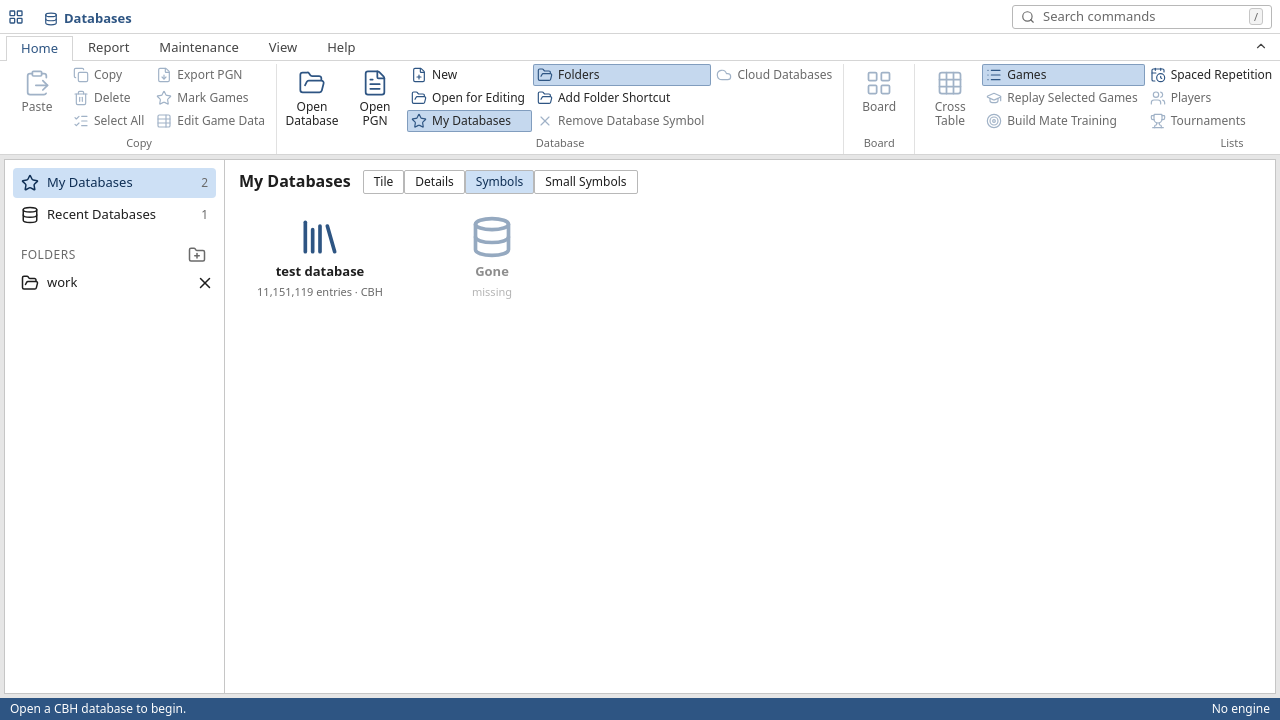
Test case: database start screen › edits local properties, keeps the dialog on failure and permits missing symbols
The width and height of the screenshot is (1280, 720).
Click the option "Gone missing" at coordinates (492, 257), box top-left (411, 202), bottom-right (573, 313)
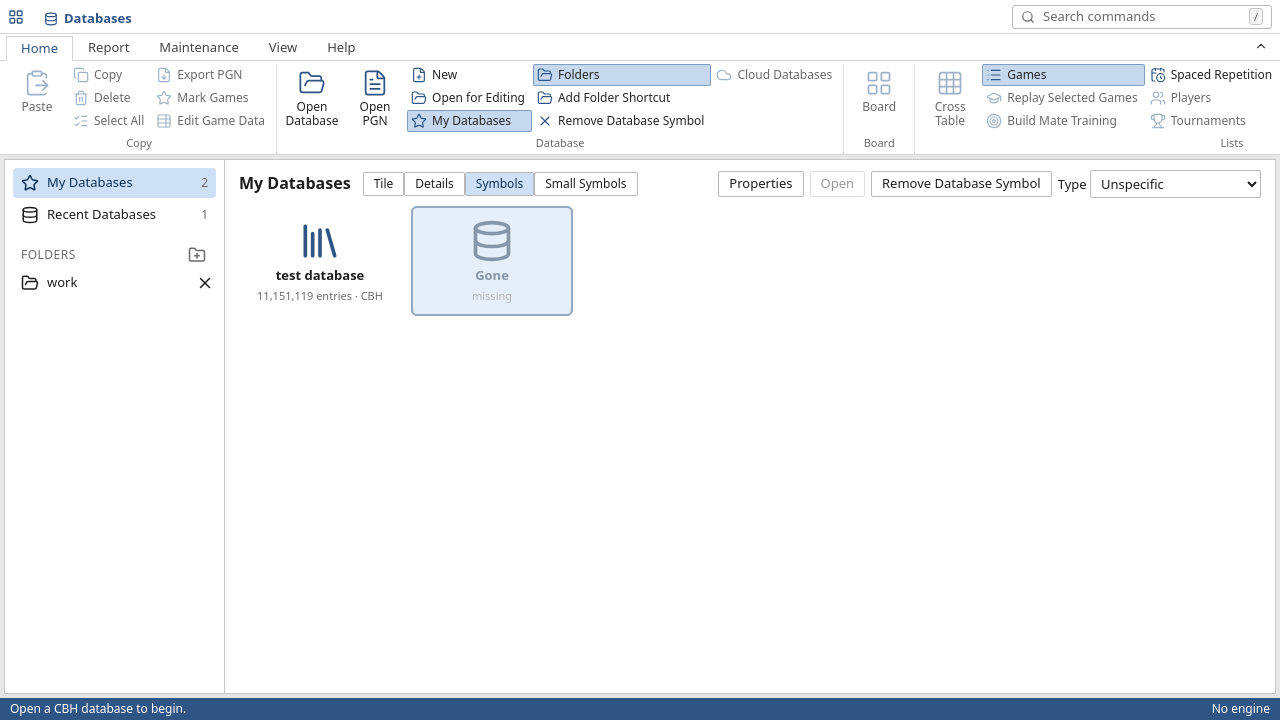
Click the button "Properties" at coordinates (761, 184), box top-left (718, 171), bottom-right (804, 197)
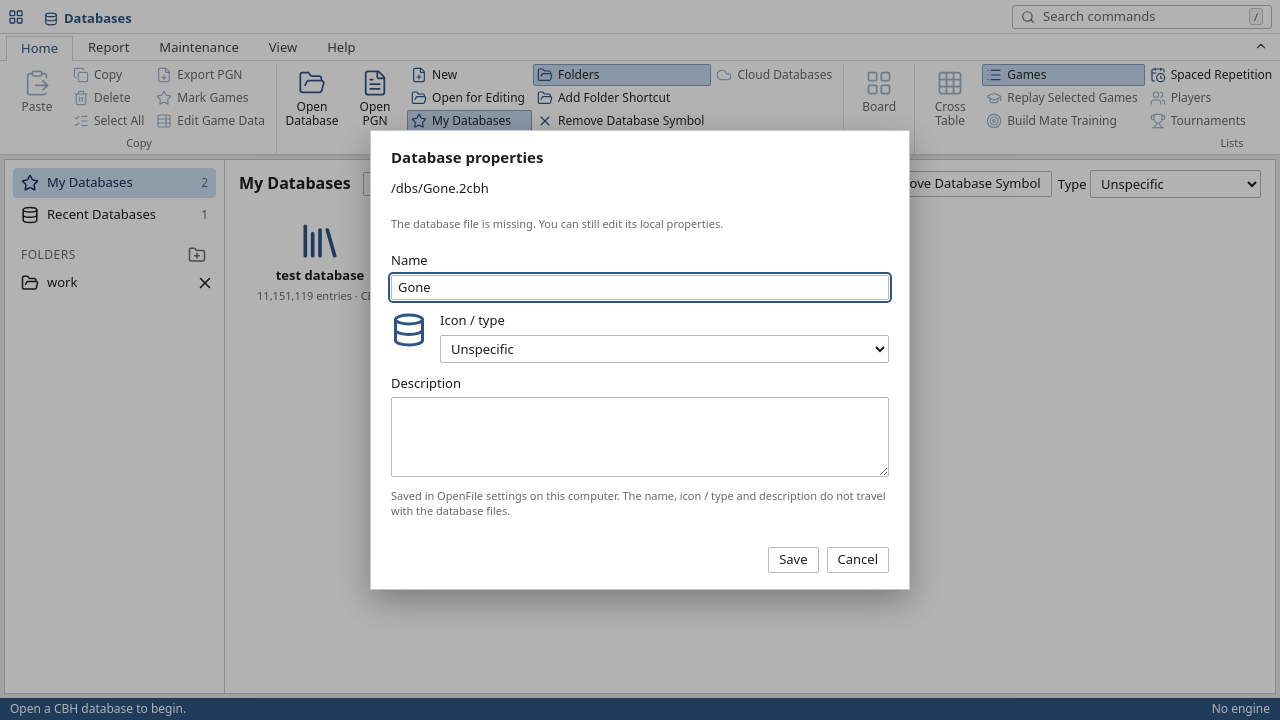
Check: the dialog "Database properties" shows "OpenFile settings", box top-left (391, 488), bottom-right (886, 518)
Replace the text in the field labelled "Name" with "Recovered collection" at coordinates (640, 287), box top-left (391, 275), bottom-right (889, 300)
Select "Work" in the dropdown labelled "Icon / type" at coordinates (664, 349), box top-left (440, 335), bottom-right (889, 363)
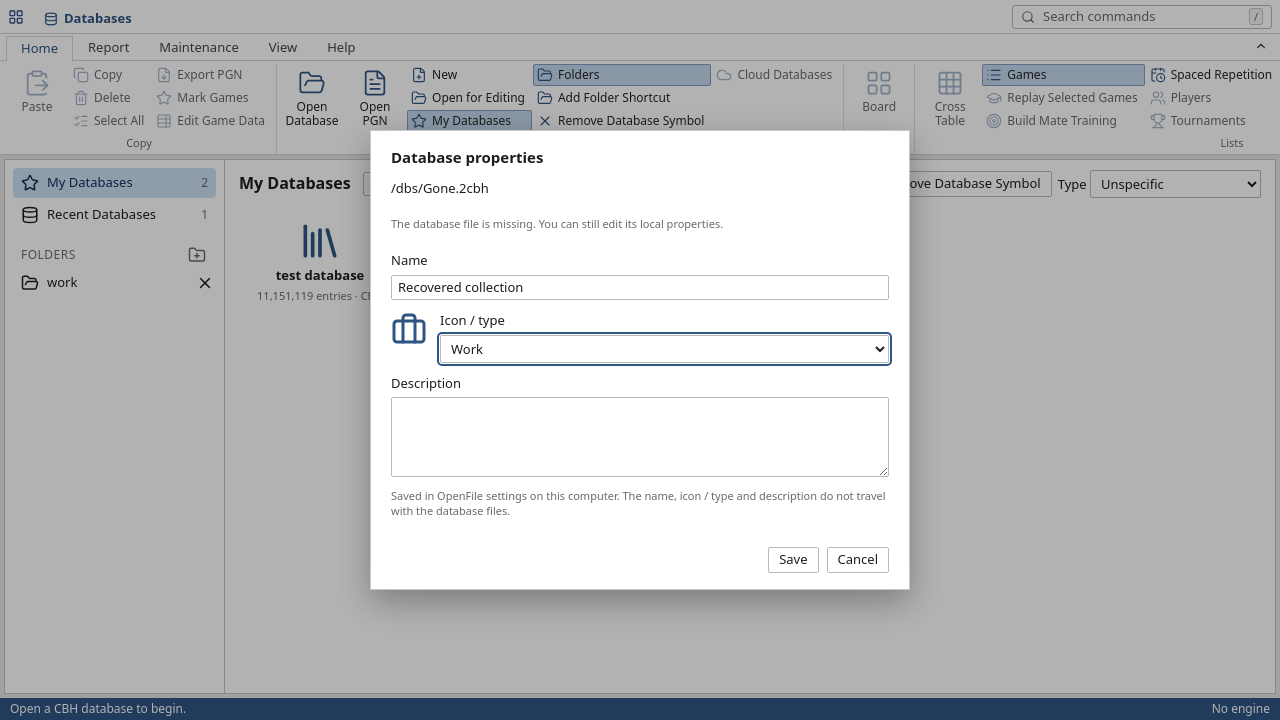
Type "My study notes" into the text box labelled "Description" at coordinates (640, 437), box top-left (391, 397), bottom-right (889, 477)
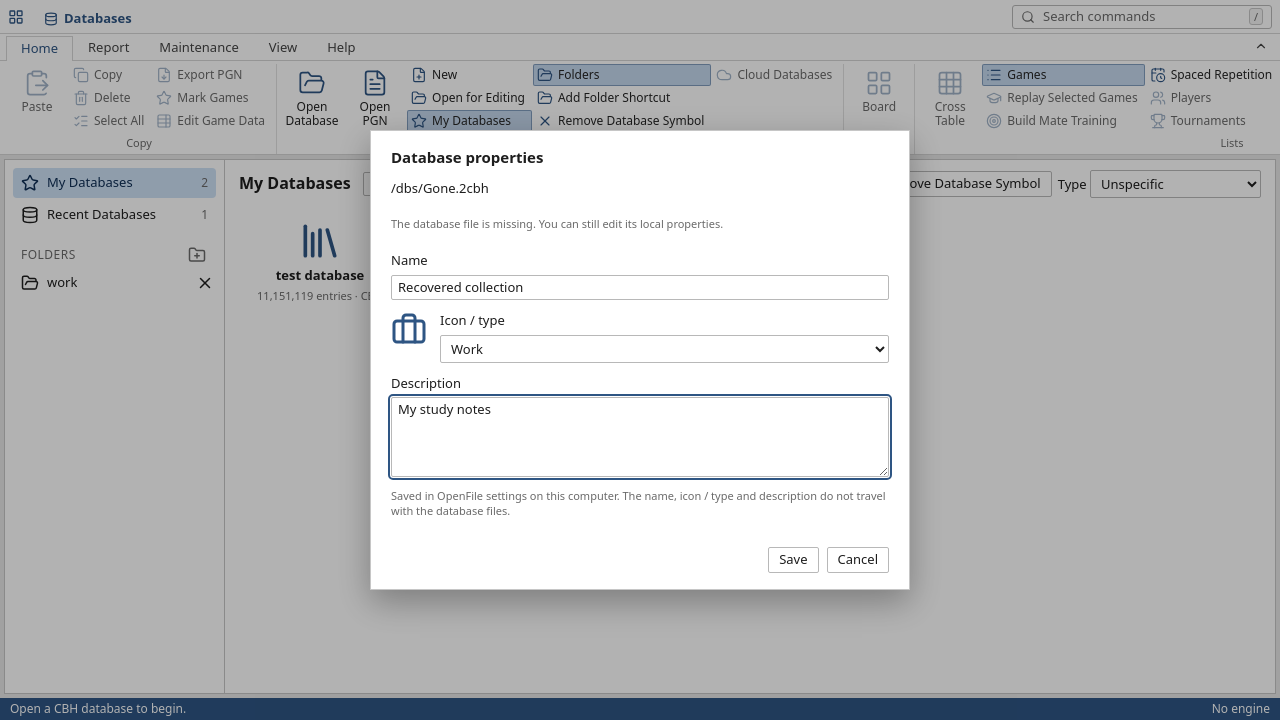
Click the button "Save" at coordinates (793, 560), box top-left (768, 547), bottom-right (818, 572)
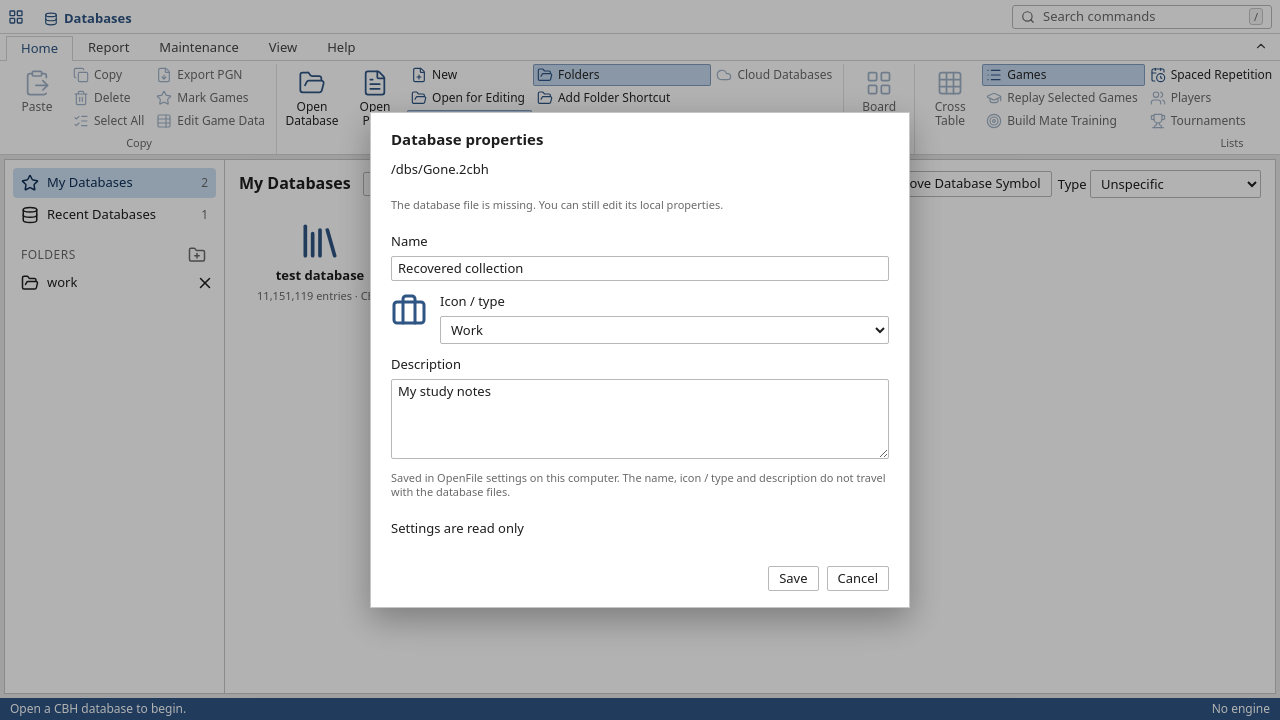
Check: the message reads "Settings are read only", box top-left (391, 519), bottom-right (524, 537)
Click the button "Save" at coordinates (793, 579), box top-left (768, 566), bottom-right (818, 591)
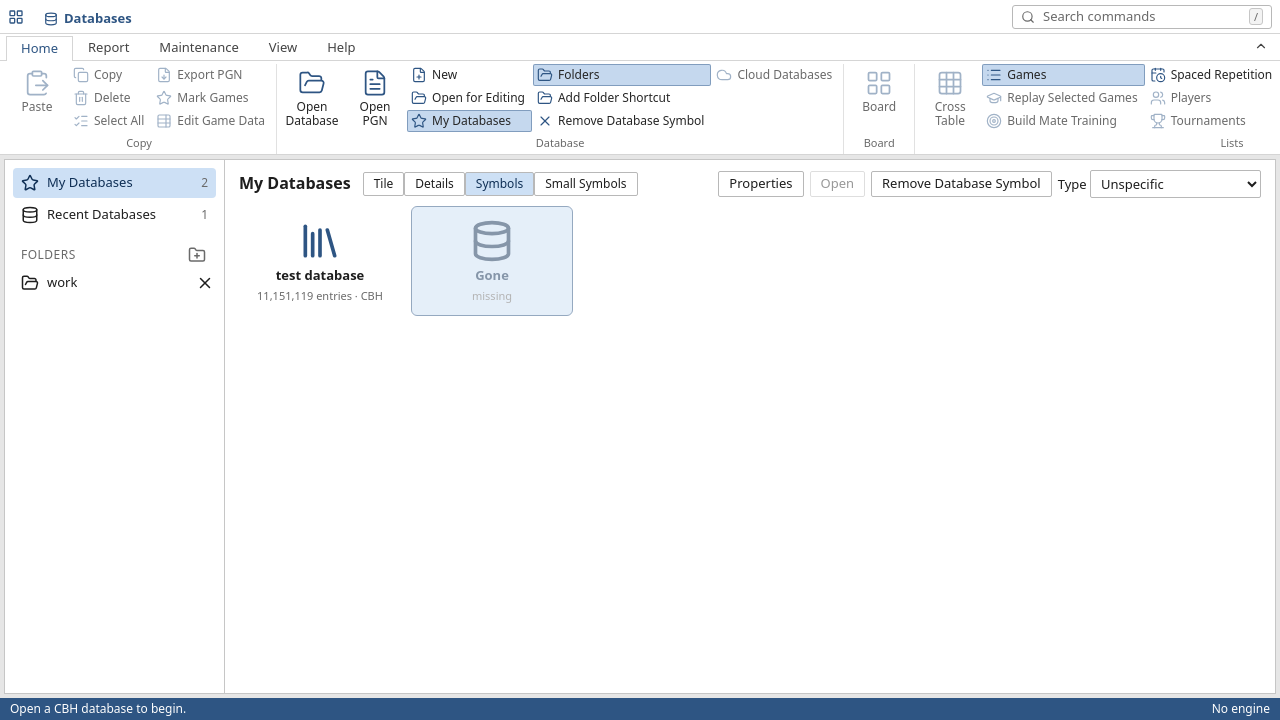
Check: the heading "Database properties" is gone
